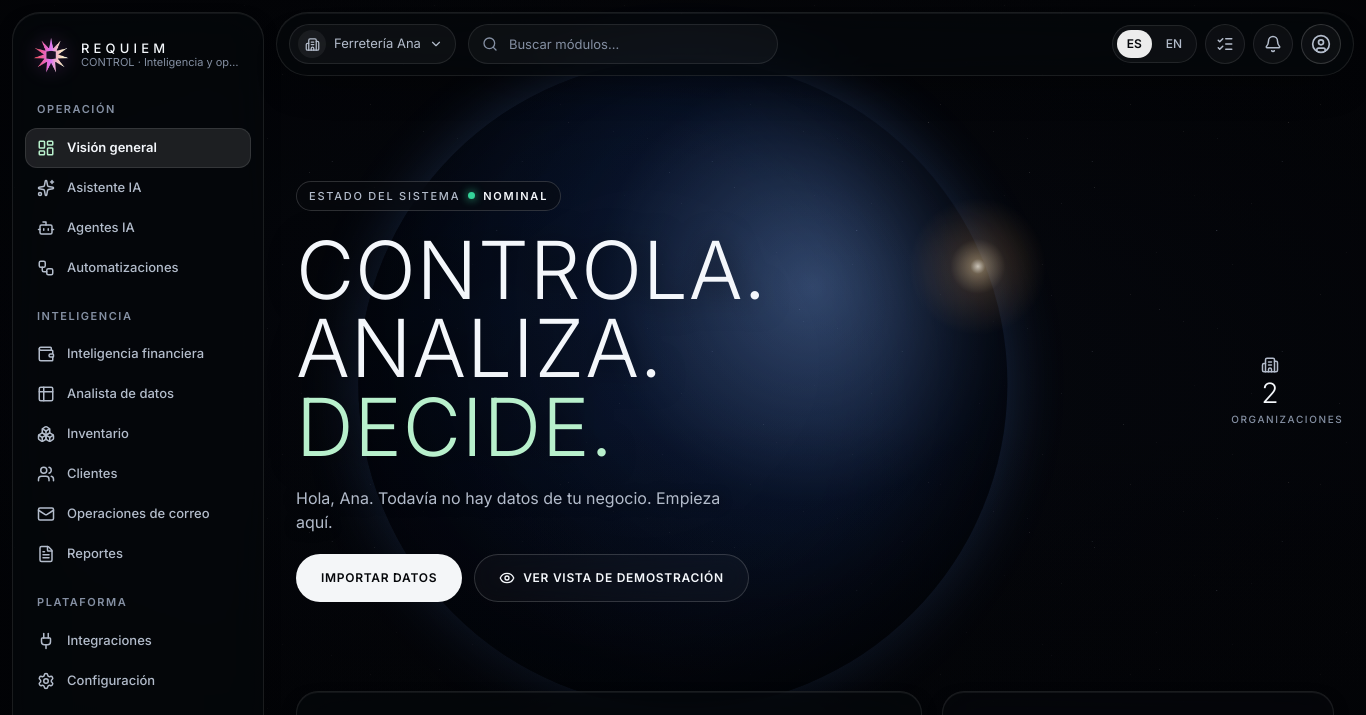
Test: navigation & shell › search filters modules and navigates with the keyboard
The width and height of the screenshot is (1366, 715).
Type "report" into the dropdown named "Buscar en la plataforma".
click(623, 44); type("report")  # box [468, 24, 778, 64]
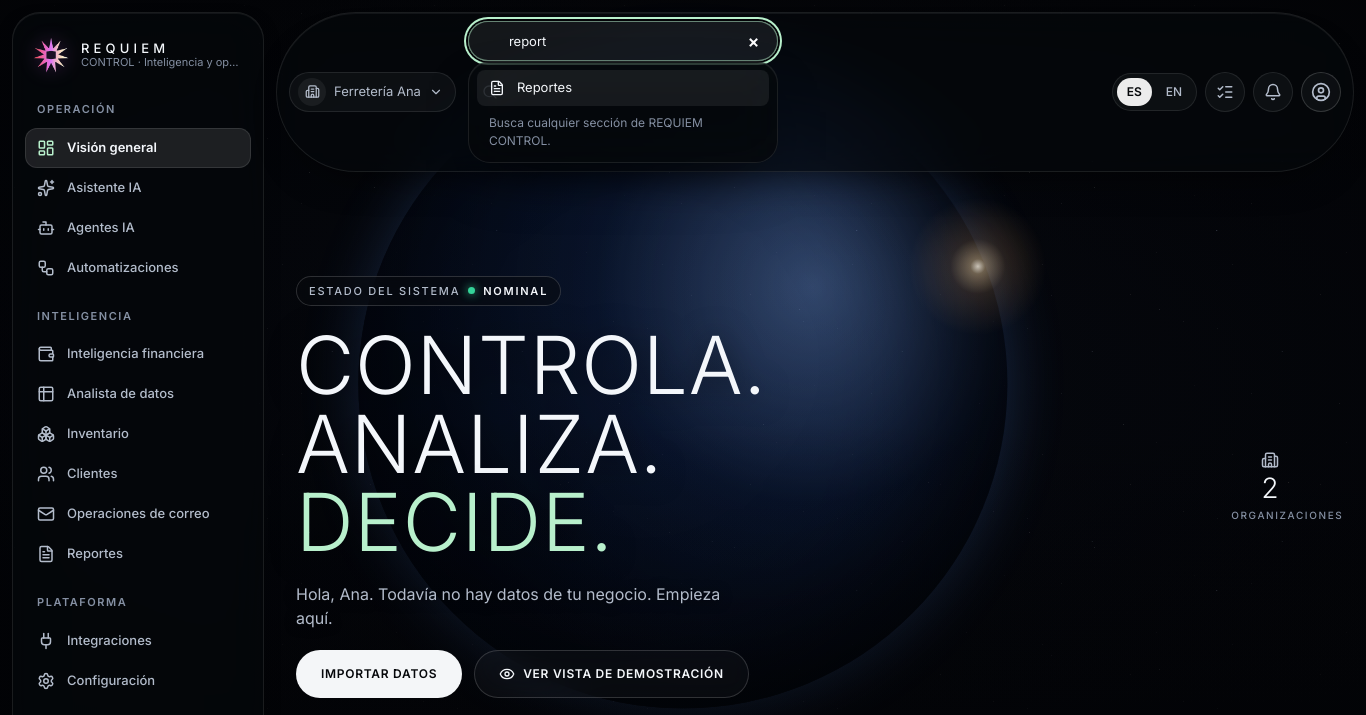
Expected: the option "Reportes" is shown, [477, 70, 769, 106]
Press Enter
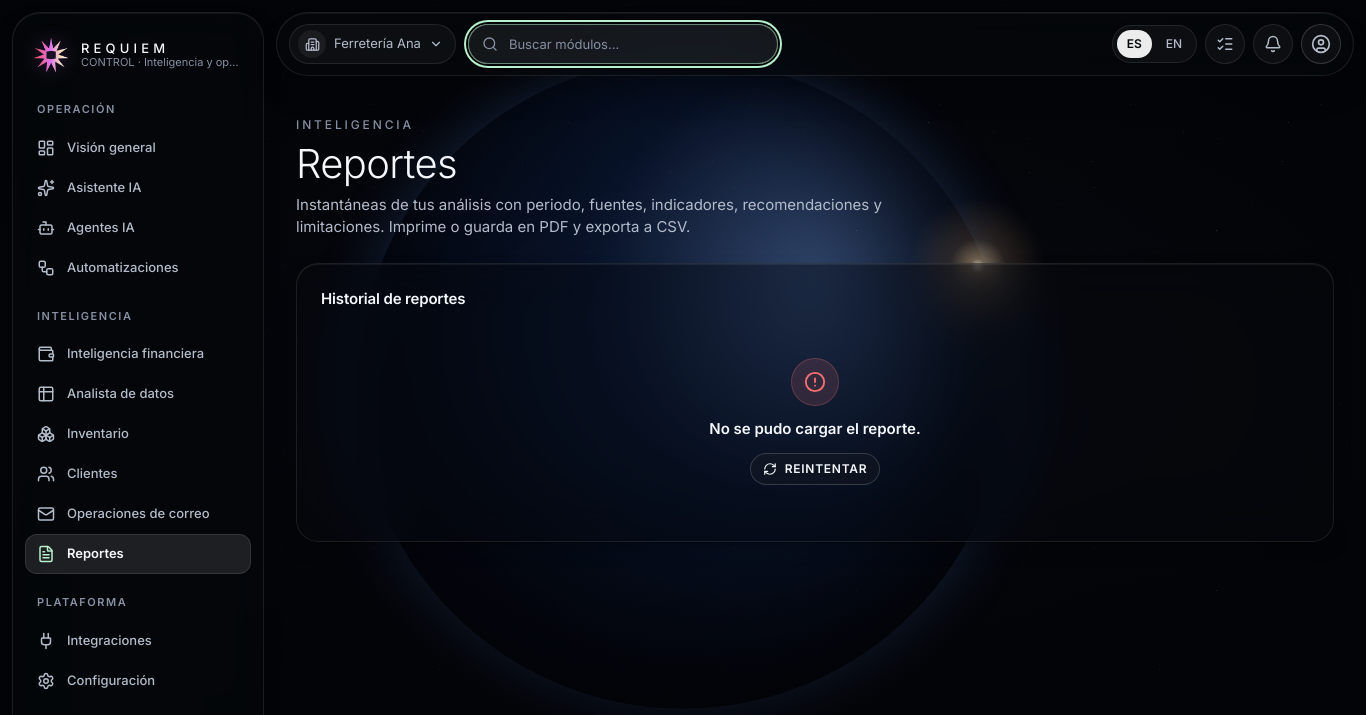
Expected: the heading "Reportes" is shown, [296, 142, 457, 186]
Type "zzz" into the dropdown named "Buscar en la plataforma".
click(623, 44); type("zzz")  # box [468, 24, 778, 64]
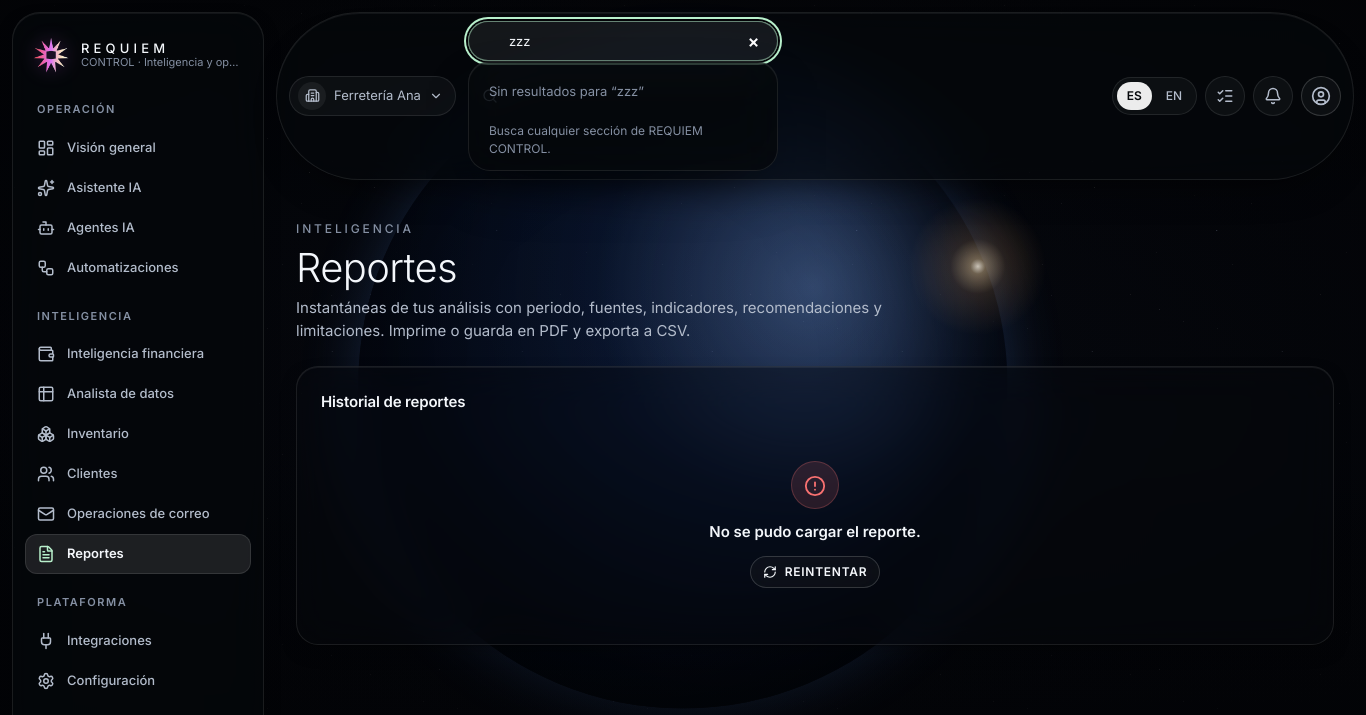
Expected: the text "Sin resultados para “zzz”" is shown, [489, 83, 644, 99]
